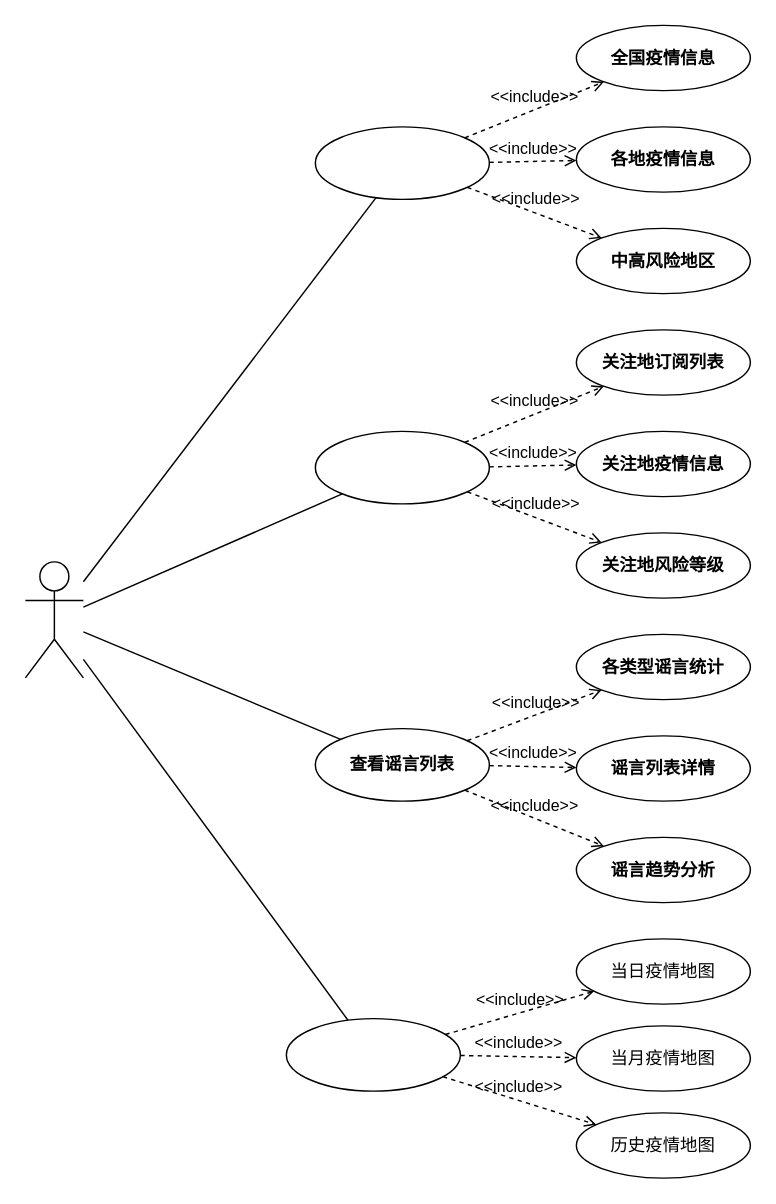
Some shapes in this 776 by 1204 pixel diagram are drawn without their labels. Each missing label, with the centre of its shape:
Actor: [53,619]
查看全国疫情速报: [401,162]
查看疫情地图: [372,1054]
查看重点关注地区: [401,467]
